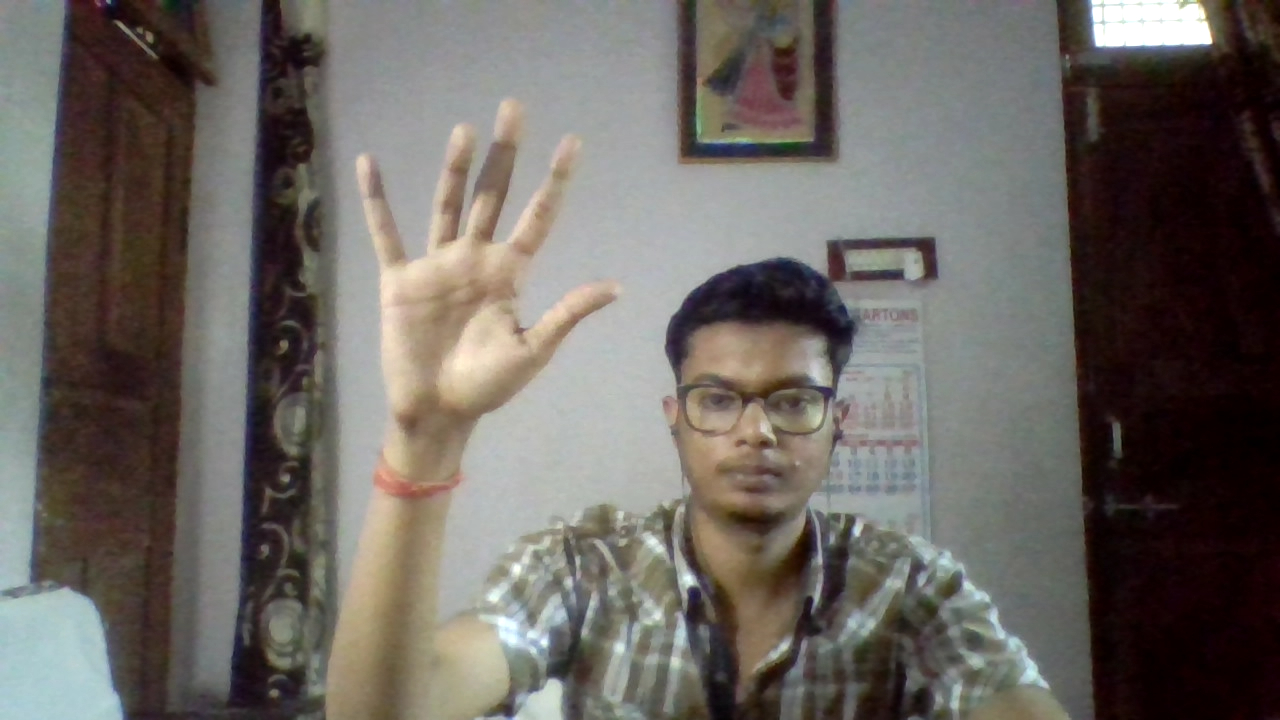five: (341, 89, 644, 452)
